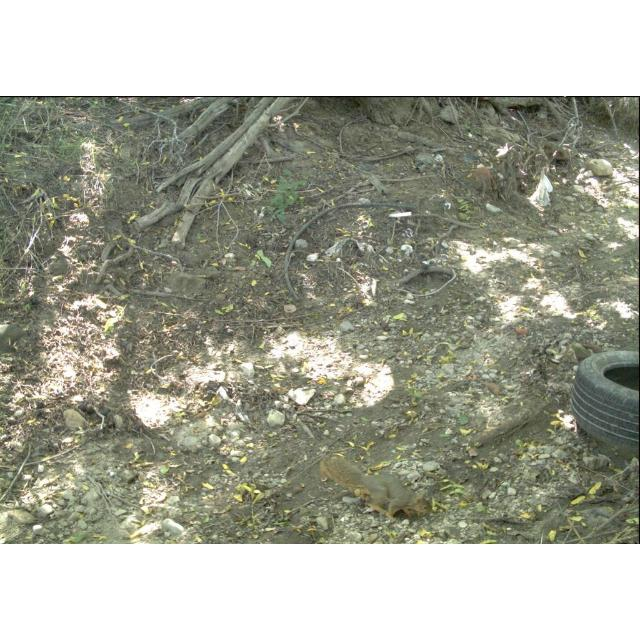animals: (318, 450, 438, 526)
